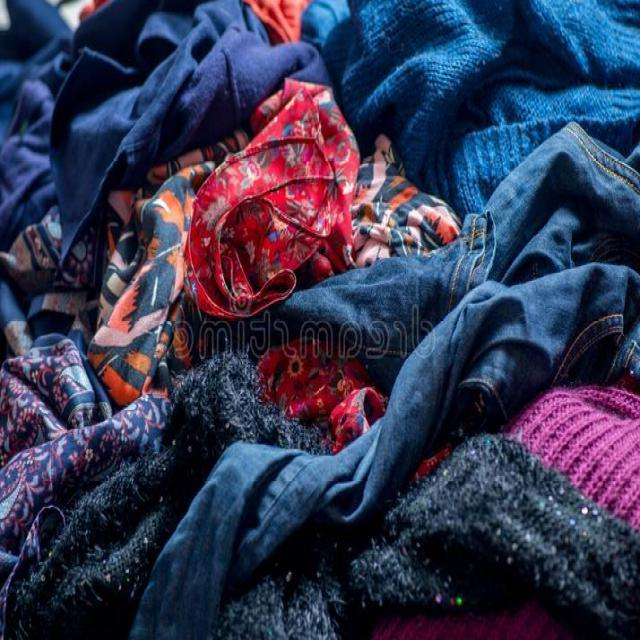clothes: (122, 80, 537, 458)
